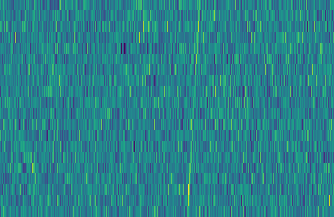signal: (183, 0, 204, 217)
